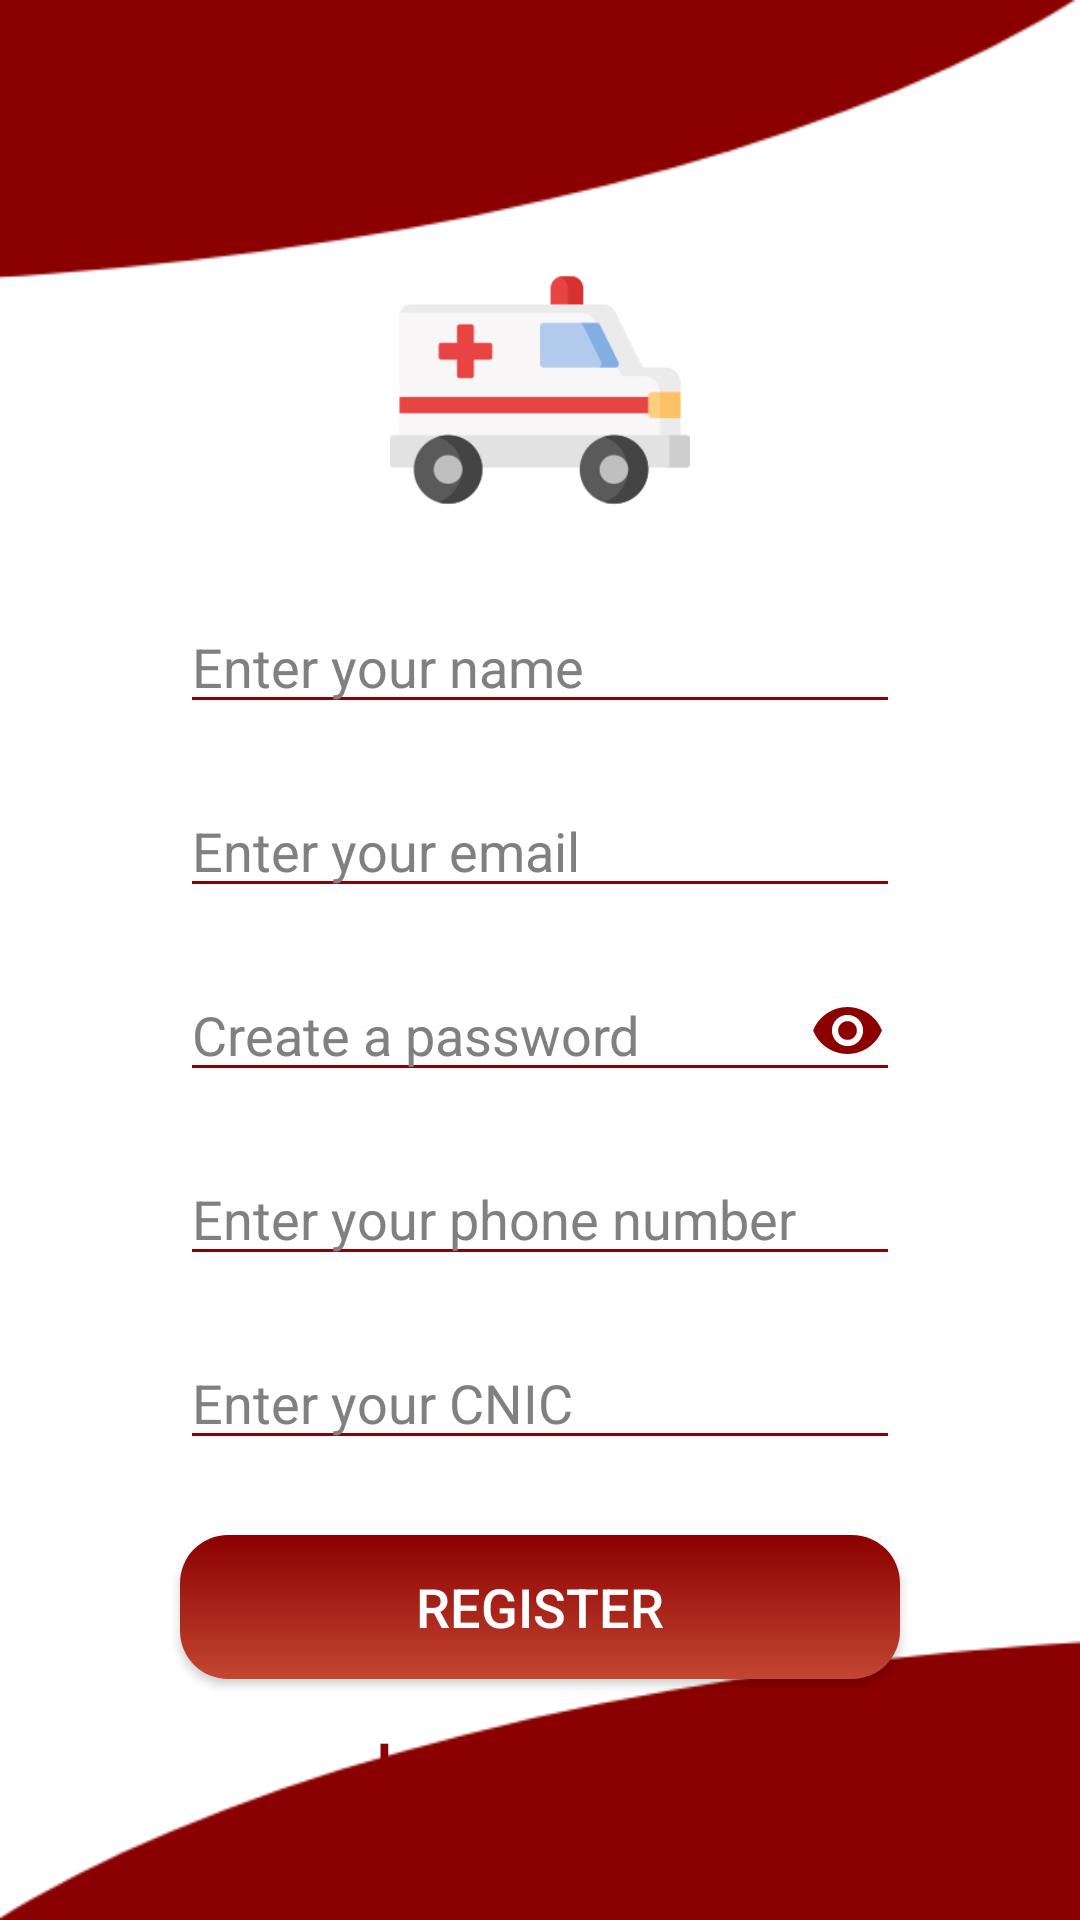

Where to tap for icons on this 1080px x 1920px app screen, as (x=x, y=y):
eye: (x=847, y=1030)
